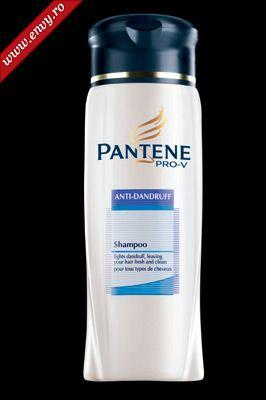plastic: (84, 16, 204, 382)
